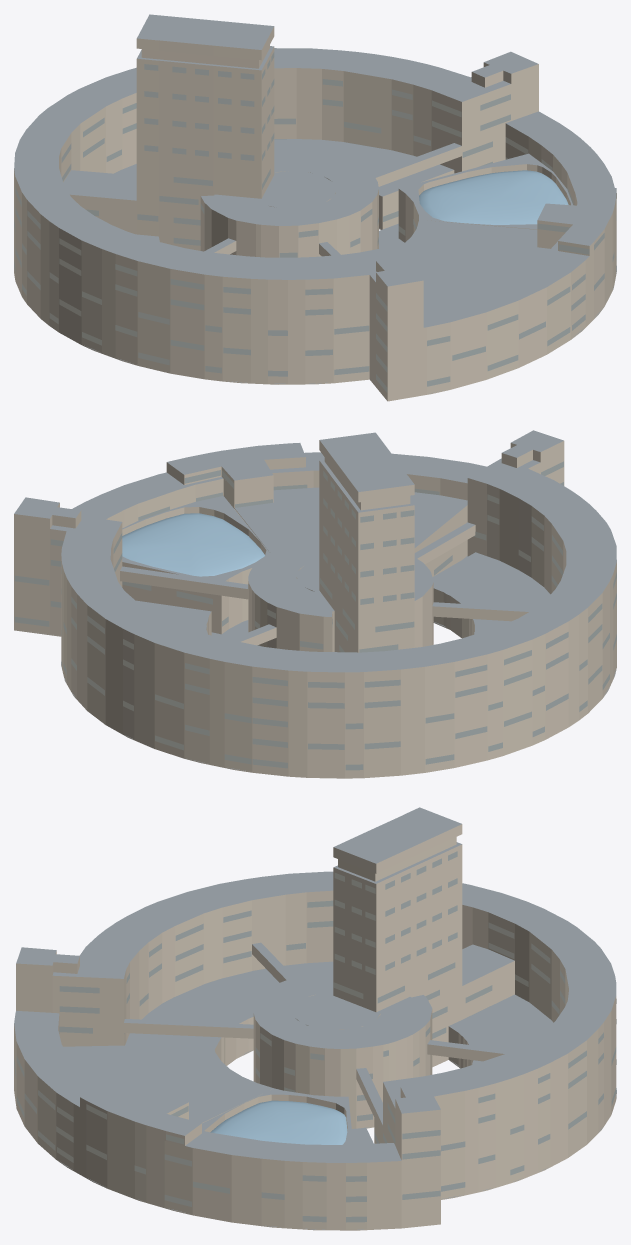
File: detail.glb
3 views of the same model, one above another, from view 1: azimuth 30°, elevation 25°; view 2: azimuth 150°, elevation 25°; view 3: azimuth 270°, elevation 25° (orthographic).
Parts seen in each view (by area): view 1: stone, roof, window, glass; view 2: stone, roof, window, glass; view 3: stone, roof, window, glass.
Boxes of the visible parts, <box> form: stone: <box>14,27,616,401</box>; roof: <box>14,14,616,393</box>; window: <box>14,52,616,392</box>; glass: <box>419,170,568,224</box>; stone: <box>14,440,616,778</box>; roof: <box>14,430,616,770</box>; window: <box>14,461,616,770</box>; glass: <box>122,513,264,576</box>; stone: <box>14,824,616,1230</box>; roof: <box>14,807,616,1229</box>; window: <box>14,851,616,1222</box>; glass: <box>210,1100,347,1144</box>.
Bounding box in the file's own units: 162 × 68 × 162.
